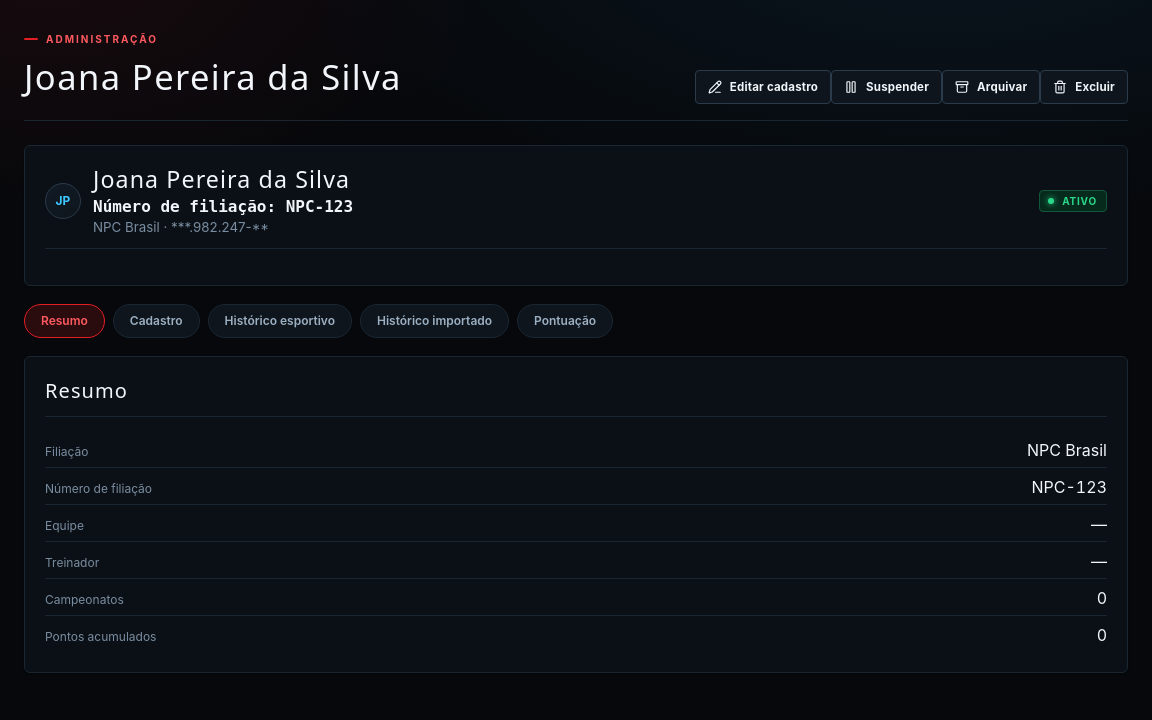
it: a coluna de pontos diz a pontuação oficial, não a do arquivo › arquivo sem pontos e ledger com 15: a tela mostra 15, não 0
Click the button "Histórico importado".
click(435, 321)  # box x1=360 y1=304 x2=509 y2=338
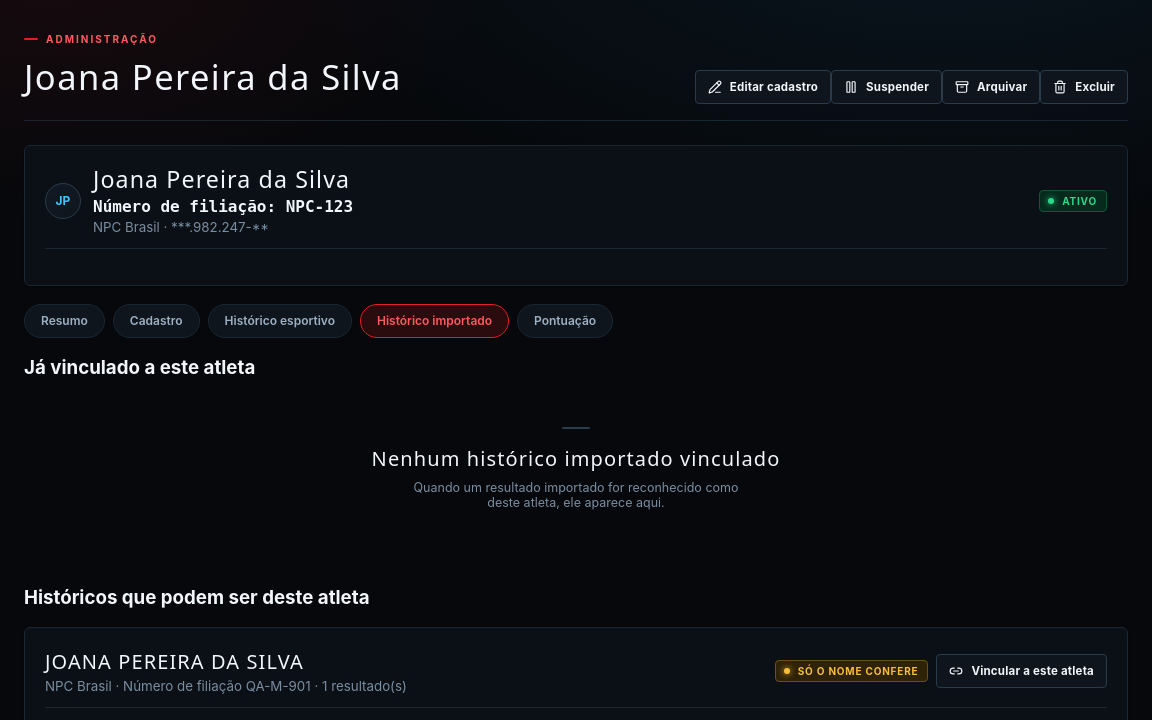
Click the button "Vincular a este atleta".
click(1022, 671)  # box x1=936 y1=654 x2=1107 y2=688
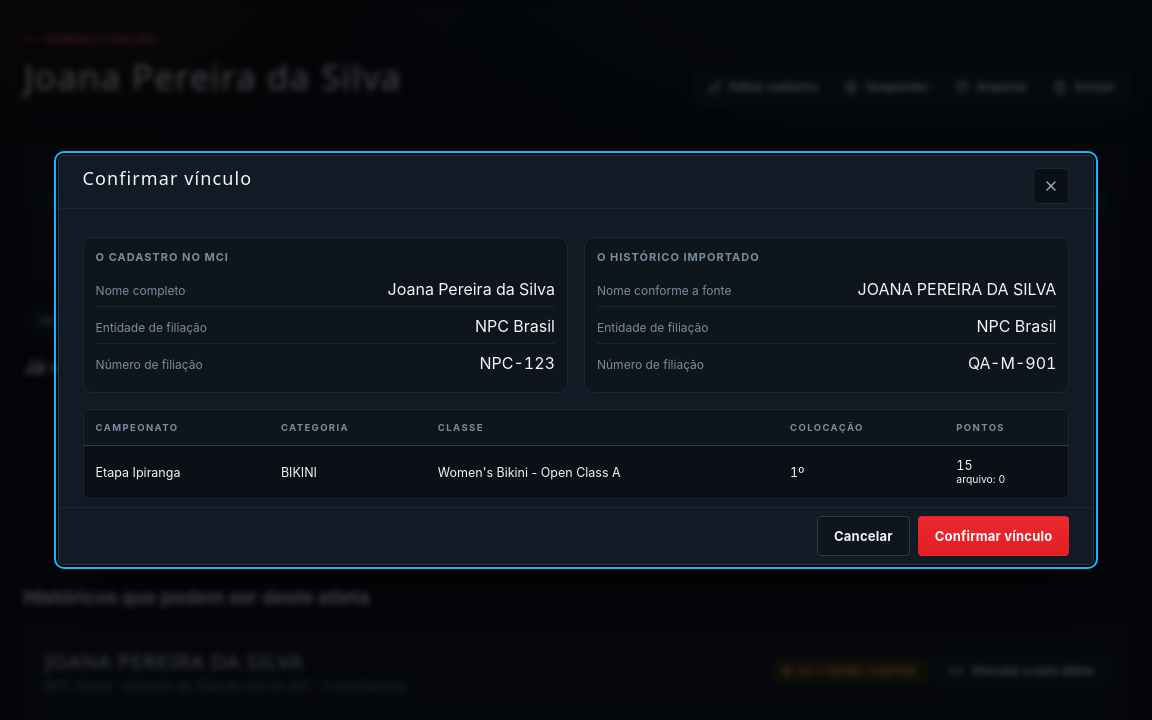
Check: the text "15" is shown, box x1=956 y1=458 x2=972 y2=473
Check: the text "arquivo: 0" is shown, box x1=956 y1=473 x2=1005 y2=486
